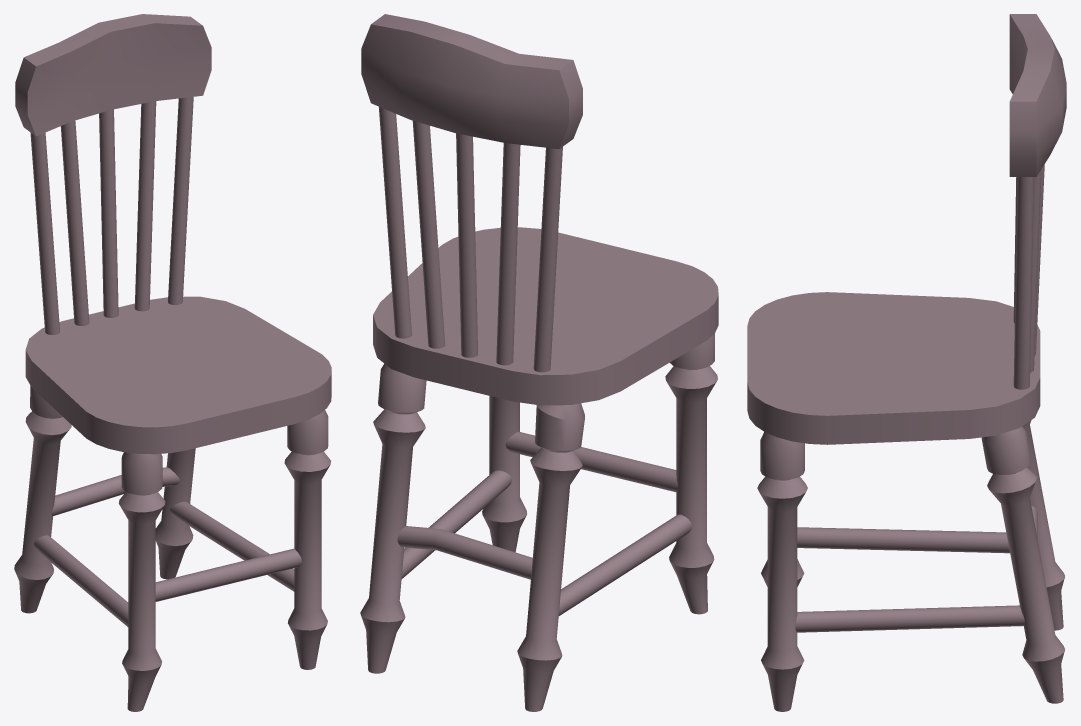
Rendered from chair.fbx.
The picture shows the model from 3 angles, left to right: view 1: azimuth 30°, elevation 25°; view 2: azimuth 150°, elevation 25°; view 3: azimuth 270°, elevation 25°; orthographic projection. The views are drawn at different scales.
Parts seen in each view (by area): view 1: Chair; view 2: Chair; view 3: Chair.
Boxes of the visible parts, x1,y1,x2,y2 form: Chair: (14, 14, 331, 711); Chair: (360, 14, 718, 711); Chair: (747, 14, 1066, 711).
Size of the model in its own units: 90 by 98.04 by 209.
